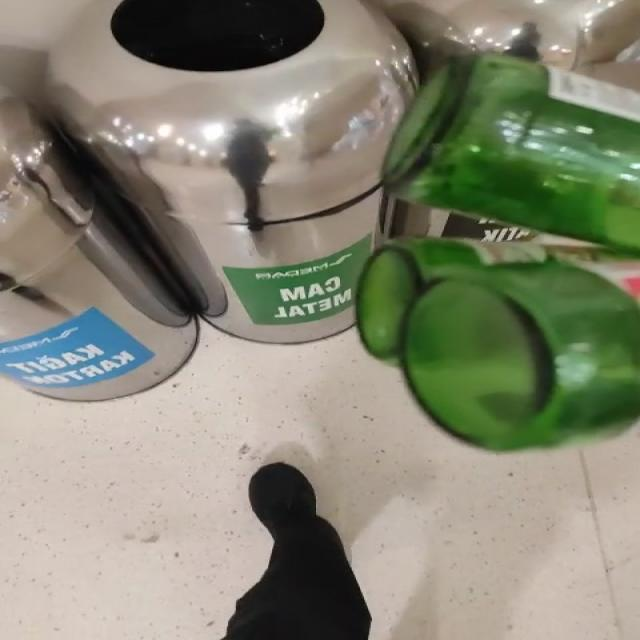glass: (357, 53, 640, 451)
